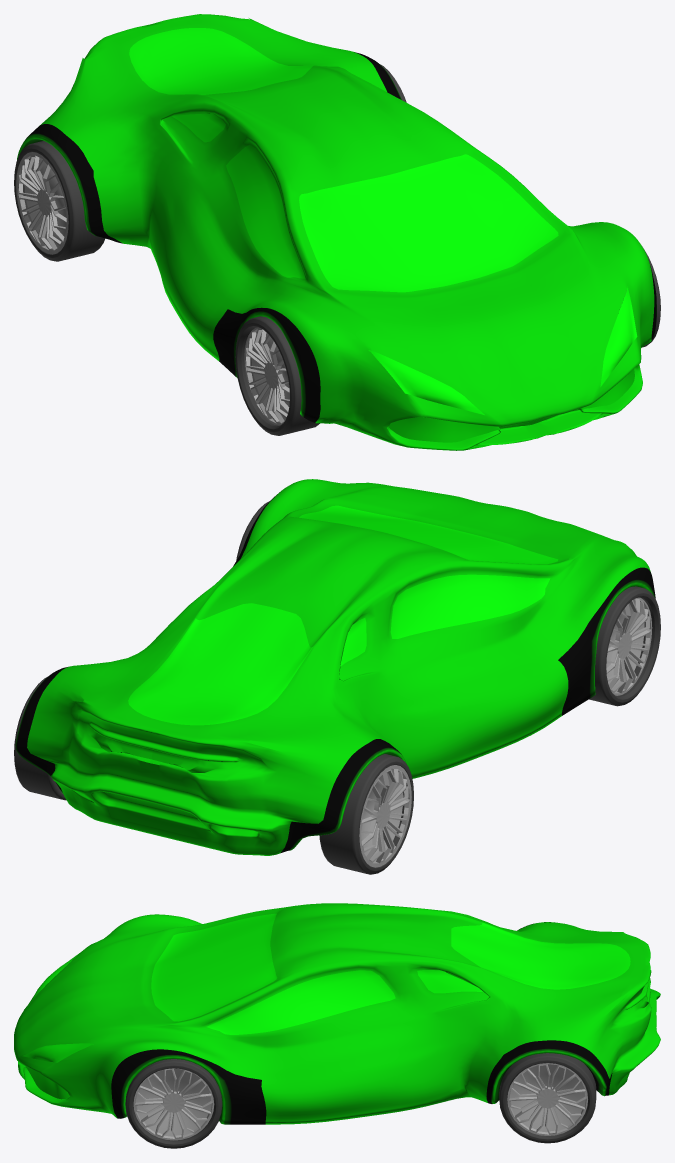
File: Car_garage.fbx
The picture shows the model from 3 angles, top to bottom: view 1: azimuth 30°, elevation 25°; view 2: azimuth 150°, elevation 25°; view 3: azimuth 270°, elevation 25°; orthographic projection. The views are drawn at different scales.
Parts seen in each view (by area): view 1: Case, tiretest (×2), Jantepic_Rback, Jantepic_Rfront; view 2: Case, tiretest (×3), Jantepic_Rback, Jantepic_Rfront; view 3: Case, Jantepic_Lback, Jantepic_Lfront, tiretest, tire.
Boxes of the visible parts, x1,y1,x2,y2 form: Case: [17, 14, 656, 450]; tiretest (×2): [14, 141, 319, 435]; Jantepic_Rback: [16, 152, 68, 254]; Jantepic_Rfront: [244, 327, 289, 425]; Case: [15, 479, 655, 855]; tiretest (×3): [14, 586, 660, 874]; Jantepic_Rback: [359, 765, 411, 867]; Jantepic_Rfront: [606, 597, 652, 695]; Case: [14, 903, 660, 1124]; Jantepic_Lback: [507, 1063, 587, 1135]; Jantepic_Lfront: [133, 1068, 214, 1140]; tiretest: [499, 1053, 596, 1143]; tire: [125, 1059, 222, 1148].
Bounding box in the file's own units: 168 × 82.91 × 319.
